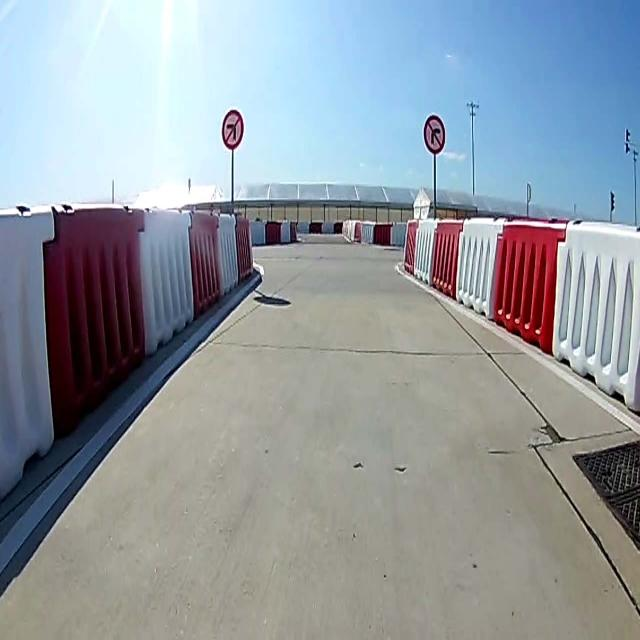sagadonulmez: (422, 113, 447, 154)
soladonulmez: (222, 112, 242, 148)
